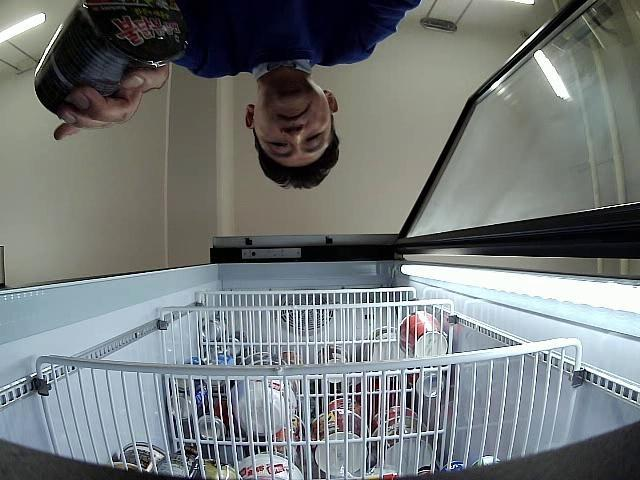08_buldak_S: (34, 0, 192, 115)
